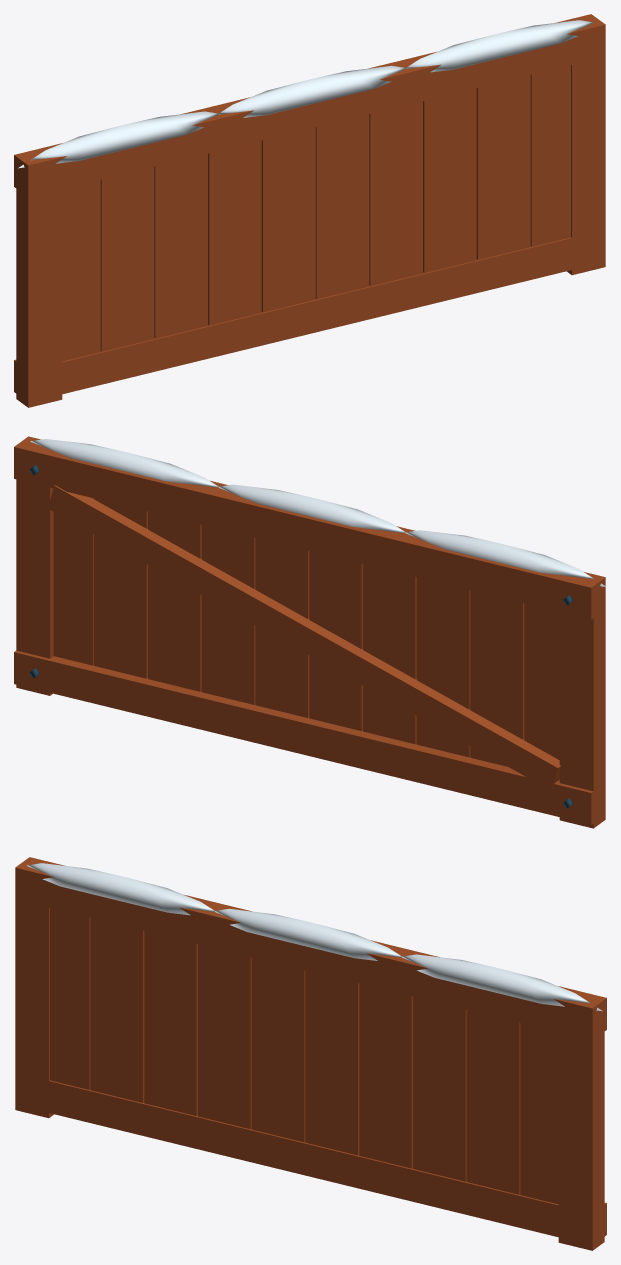
Rendered from gate_leaf.obj.
The picture shows the model from 3 angles, top to bottom: view 1: azimuth 30°, elevation 25°; view 2: azimuth 150°, elevation 25°; view 3: azimuth 330°, elevation 25°; orthographic projection.
Visible parts, largest first — view 1: gate_leaf; view 2: gate_leaf; view 3: gate_leaf.
Part boxes in pixels (box(x1,y1,x2,y2)): gate_leaf: box(14, 14, 606, 407); gate_leaf: box(14, 436, 606, 828); gate_leaf: box(14, 857, 606, 1250).
Bounding box in the file's own units: 2.9 × 1.2 × 0.17.
